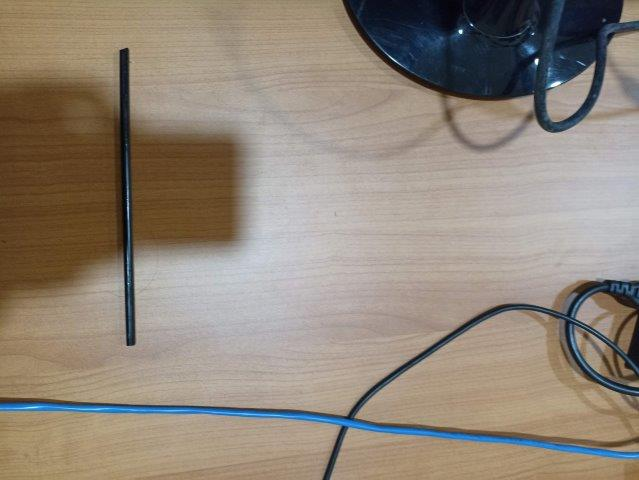sedotan: (120, 48, 137, 346)
